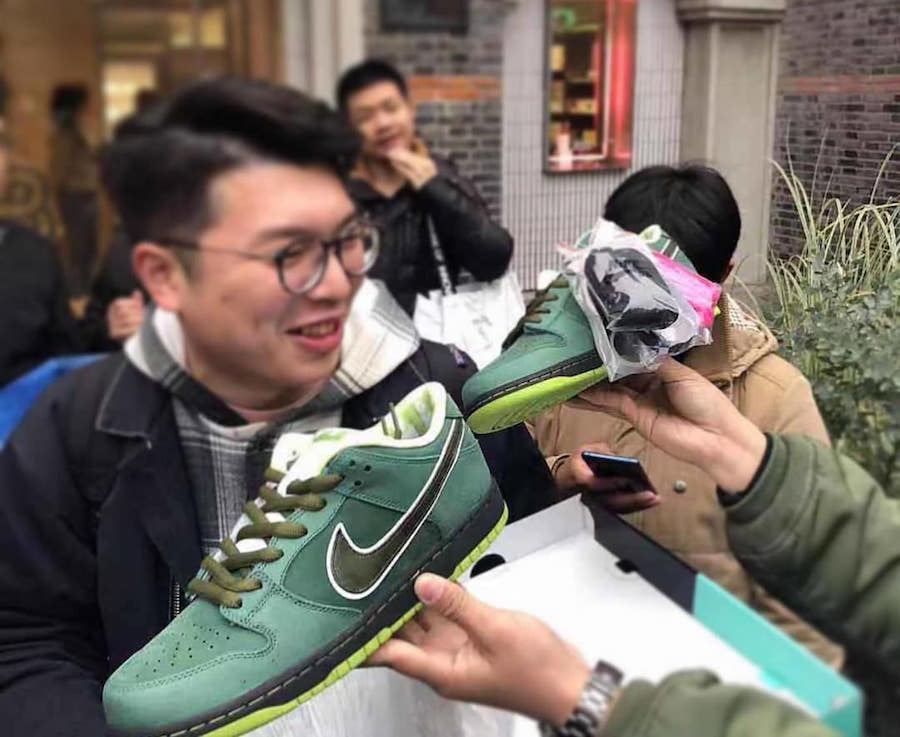Nike SB Dunk Green Lobster: (97, 381, 512, 735)
